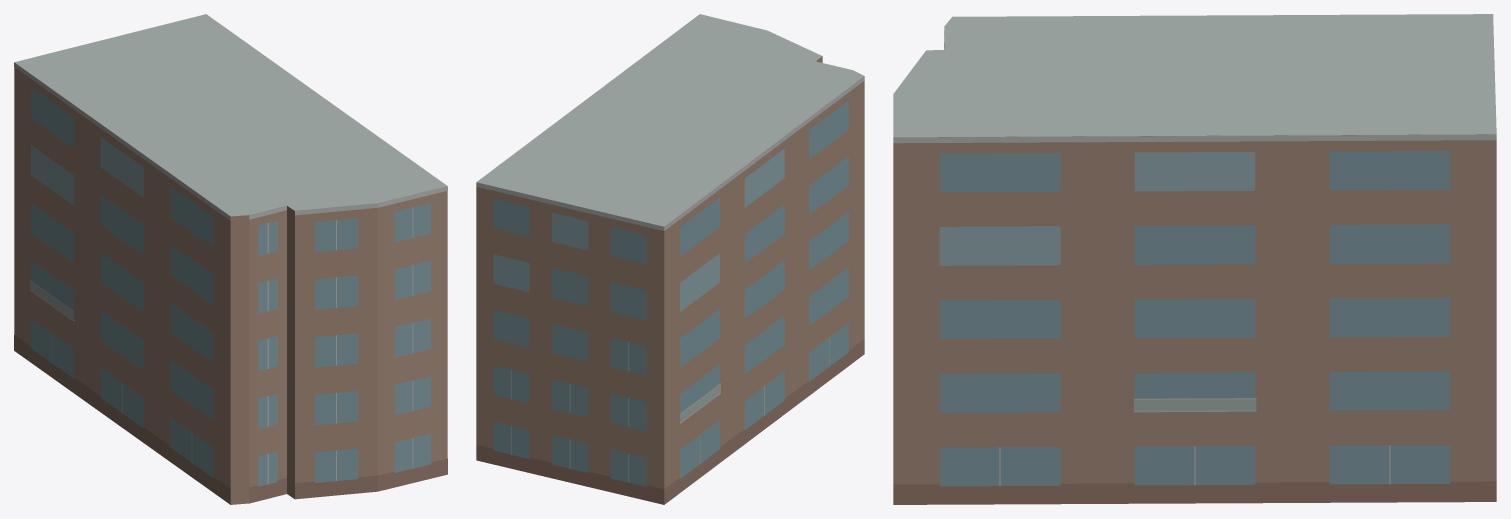
File: survey-upis-32999934.glb
3 views of the same model, side by side, from view 1: azimuth 30°, elevation 25°; view 2: azimuth 150°, elevation 25°; view 3: azimuth 270°, elevation 25° (orthographic). The views are drawn at different scales.
Parts seen in each view (by area): view 1: survey-upis-32999934.tmp; view 2: survey-upis-32999934.tmp; view 3: survey-upis-32999934.tmp.
Boxes of the visible parts, x1,y1,x2,y2 form: survey-upis-32999934.tmp: [14, 14, 447, 504]; survey-upis-32999934.tmp: [476, 14, 864, 504]; survey-upis-32999934.tmp: [893, 14, 1496, 504].
Size of the model in its own units: 11.04 by 15.3 by 22.78.
